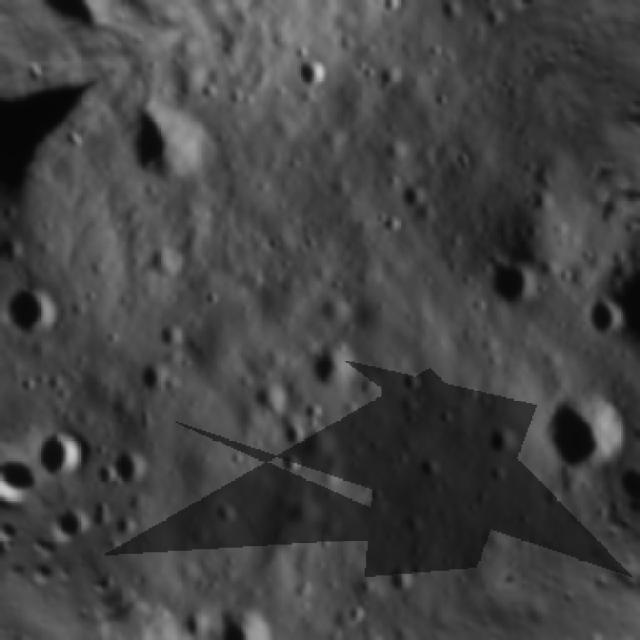crater: (105, 73, 237, 204), (521, 367, 640, 490), (23, 410, 102, 490), (472, 239, 550, 318), (0, 267, 74, 348), (298, 332, 367, 400), (195, 592, 292, 640), (571, 282, 637, 348), (97, 437, 158, 497), (476, 414, 526, 466), (286, 47, 336, 96), (101, 501, 150, 550), (375, 552, 423, 600), (607, 451, 640, 510), (130, 356, 173, 399), (390, 359, 432, 401), (392, 172, 434, 214), (149, 315, 189, 353), (376, 205, 412, 244), (411, 446, 447, 483), (346, 618, 396, 640), (369, 0, 411, 22)
